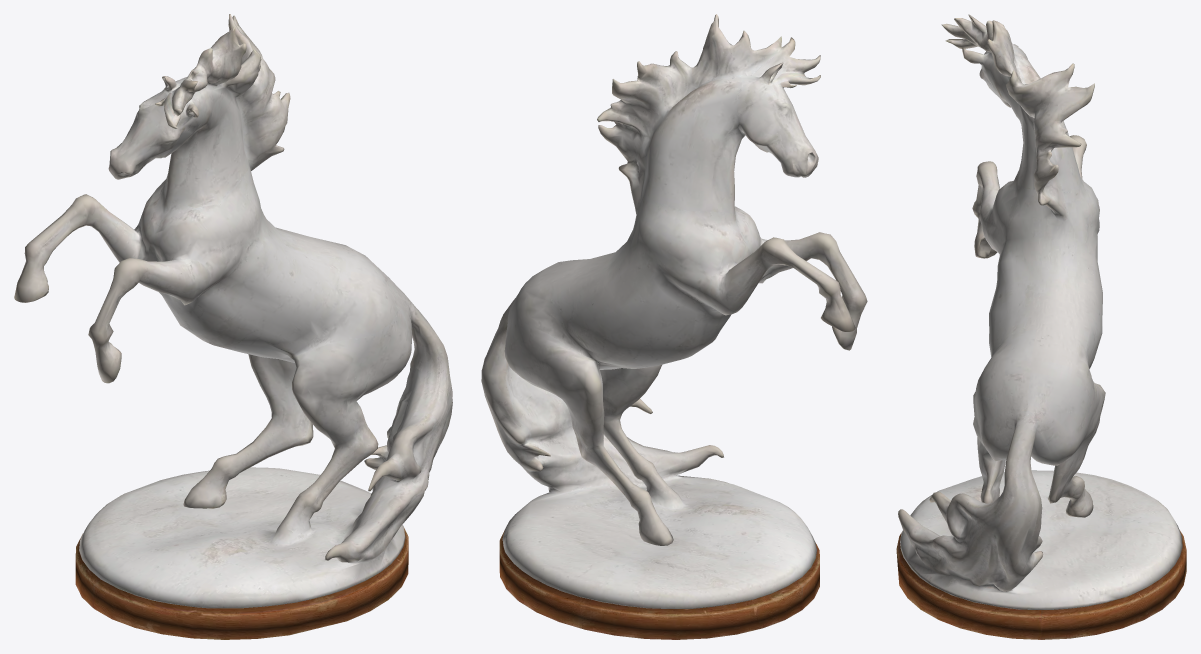
Rendered from horse_statue_01.glb.
The picture shows the model from 3 angles, left to right: view 1: azimuth 30°, elevation 25°; view 2: azimuth 150°, elevation 25°; view 3: azimuth 270°, elevation 25°; orthographic projection. The views are drawn at different scales.
Parts seen in each view (by area): view 1: horse_statue_01; view 2: horse_statue_01; view 3: horse_statue_01.
Part boxes in pixels (x1,y1,x2,y2): horse_statue_01: [14, 14, 452, 639]; horse_statue_01: [481, 14, 867, 639]; horse_statue_01: [896, 14, 1186, 639].
Size of the model in its own units: 0.1638 by 0.22 by 0.1078.
1 material, 1 textured.
